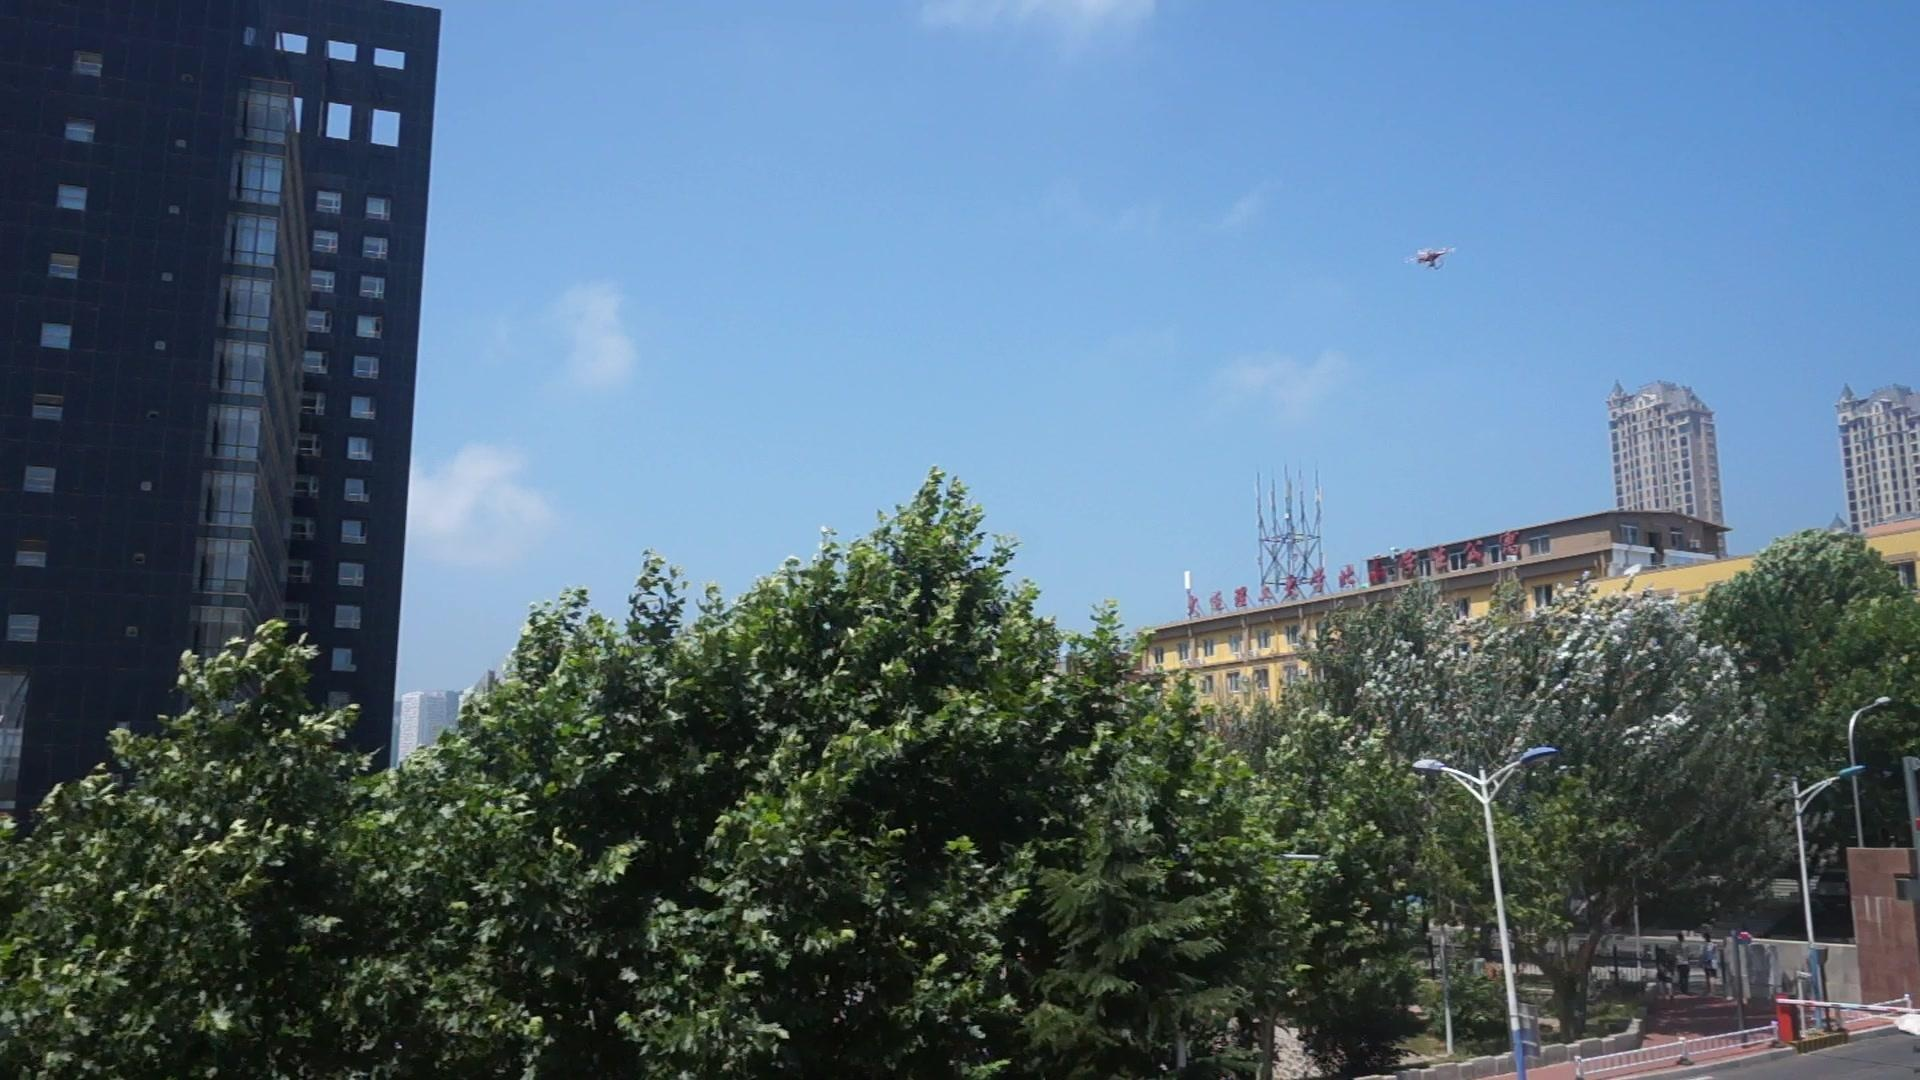UAV: (1402, 247, 1458, 272)
